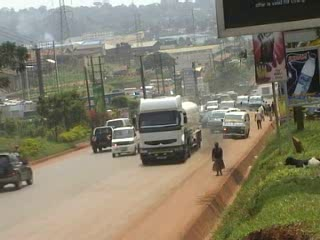Car: (0, 149, 35, 190), (199, 108, 210, 131)
